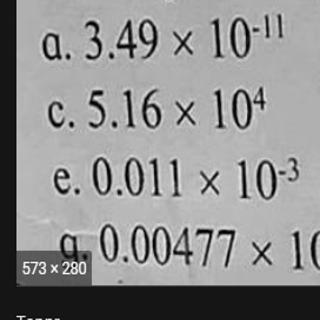.: (117, 251, 132, 268), (106, 44, 120, 61), (65, 117, 79, 132), (109, 117, 120, 133), (72, 185, 83, 199), (64, 47, 74, 62)
0: (227, 16, 252, 60), (120, 157, 148, 195), (257, 158, 280, 203), (229, 90, 253, 130), (89, 155, 110, 196), (153, 224, 173, 265), (99, 223, 118, 264), (133, 221, 147, 263), (78, 259, 87, 277)
1: (289, 229, 307, 273), (211, 87, 227, 134), (122, 87, 136, 131), (210, 17, 223, 61), (148, 156, 162, 196), (263, 11, 272, 44), (279, 10, 286, 39)
2: (61, 259, 70, 277)
3: (81, 17, 104, 65), (37, 257, 49, 276)
4: (116, 18, 139, 62), (172, 224, 194, 268), (251, 86, 274, 111)
5: (86, 88, 106, 131), (20, 261, 30, 274)
6: (139, 82, 164, 129)
7: (216, 222, 240, 269), (194, 226, 213, 268), (29, 259, 37, 275)
8: (70, 258, 80, 275)
9: (135, 17, 159, 60)
